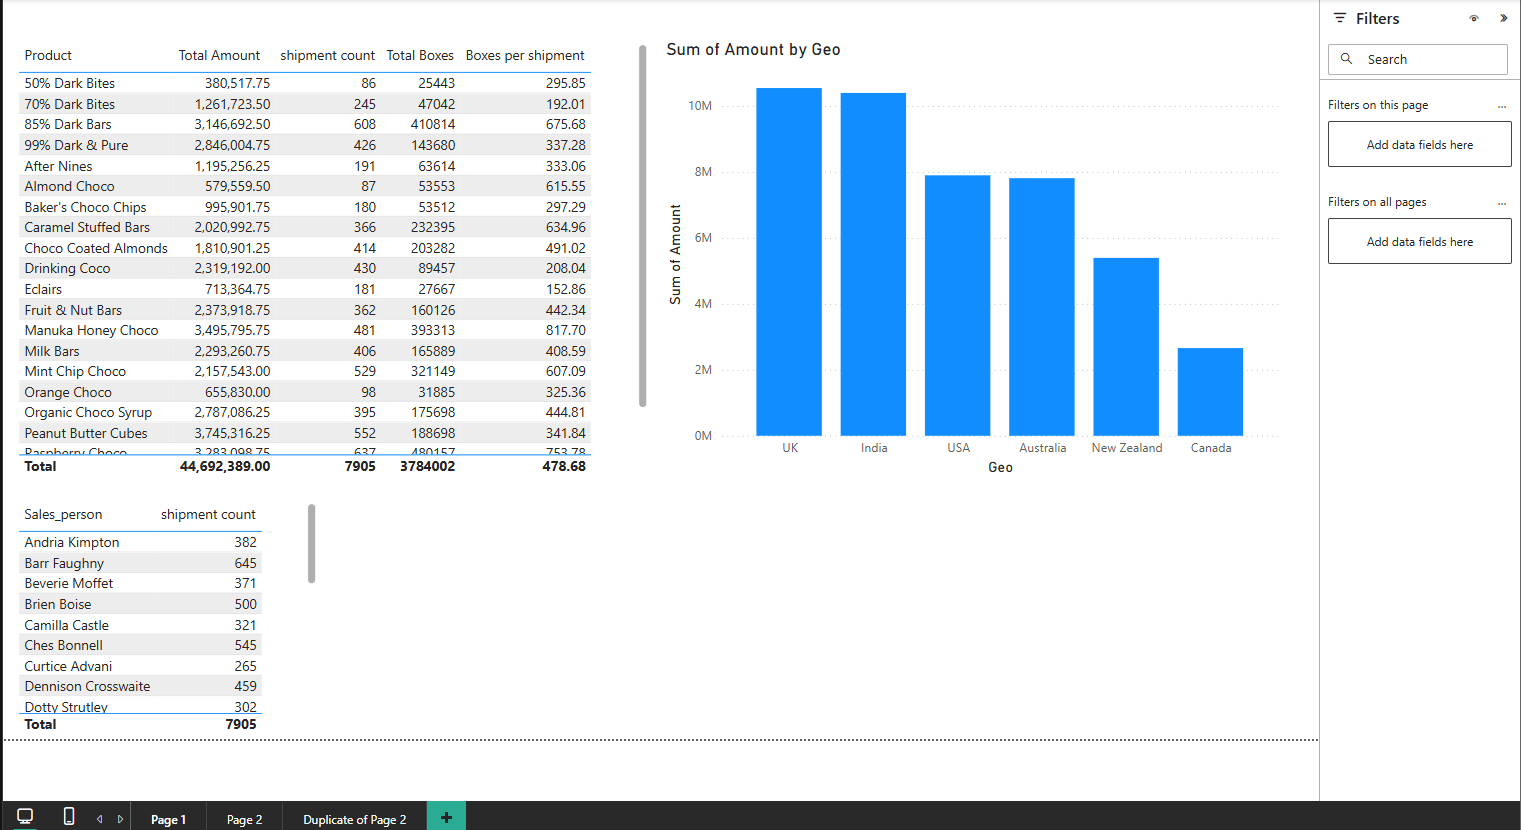

The dashboard page shown, as its layout file describes it:
{"tool":"powerbi","page":{"name":"Page 1","canvas":[1280,720],"ordinal":0},"visuals":[{"type":"tableEx","fields":{"Values":["products.Product","Measure.Total Amount","Measure.shipment count","Measure.Total Boxes","Measure.Boxes per shipment"]},"box":[9.7,38.9,622.5,428.9],"z":0},{"type":"tableEx","fields":{"Values":["people.Sales_person","Measure.shipment count"]},"box":[9.7,485.3,299.6,234.4],"z":1000},{"type":"clusteredColumnChart","fields":{"Category":["locations.Geo"],"Y":["Sum(shipments.Amount)"]},"box":[640,38.9,606,428.9],"z":2000}]}

Visuals, with their boxes on the page's 1280x720 design canvas (x1, y1, x2, y2). These are canvas units, not pixel positions in the 1521x830 screenshot, which may show the page scaled, cropped or inside an application window:
tableEx - products.Product x Measure.Total Amount: x1=10 y1=39 x2=632 y2=468
tableEx - people.Sales_person x Measure.shipment count: x1=10 y1=485 x2=309 y2=720
clusteredColumnChart - locations.Geo x Sum(shipments.Amount): x1=640 y1=39 x2=1246 y2=468
